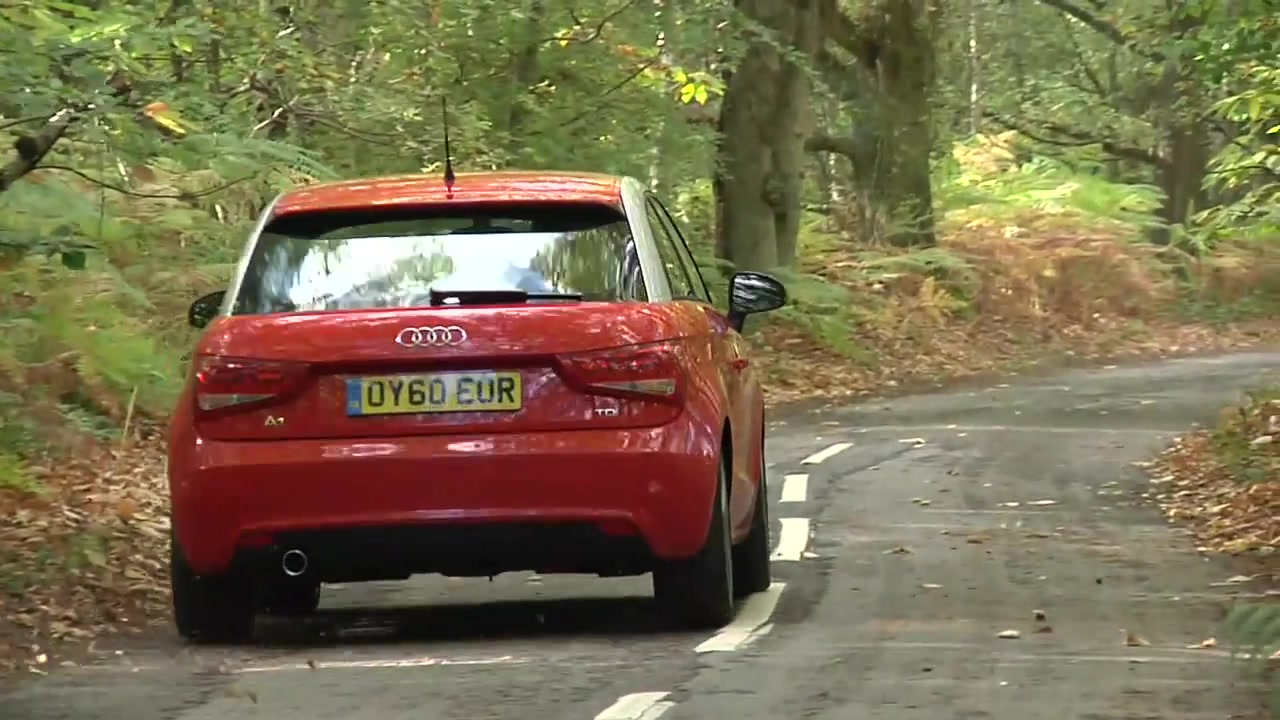car: (161, 165, 793, 645)
